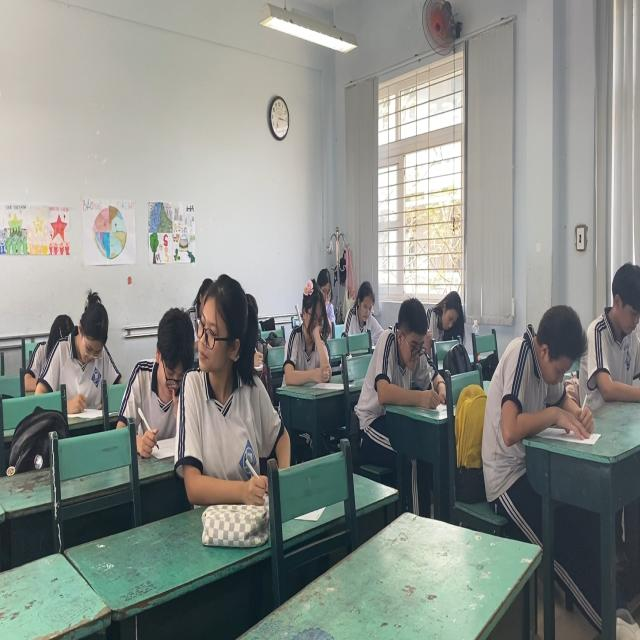cheating: (186, 270, 280, 473)
not_cheating: (513, 286, 589, 436), (122, 307, 190, 446), (42, 277, 116, 393), (285, 273, 342, 397), (596, 258, 640, 411), (378, 293, 433, 400), (340, 272, 382, 342), (433, 284, 472, 344)
